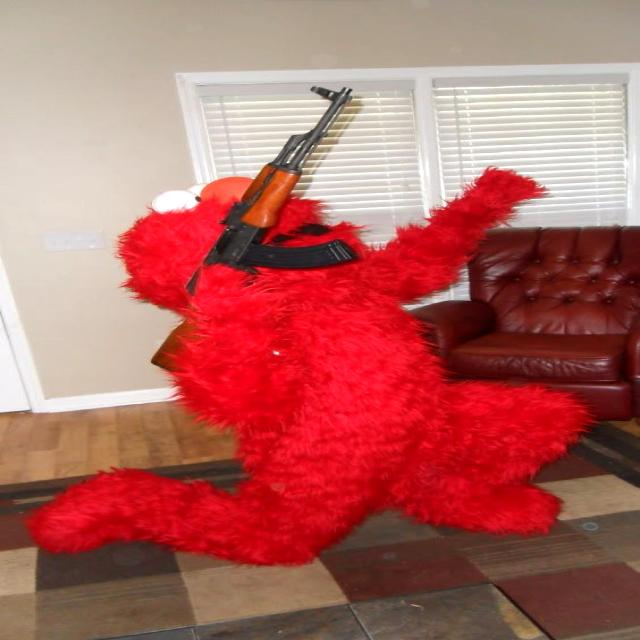ak: (99, 85, 385, 296)
